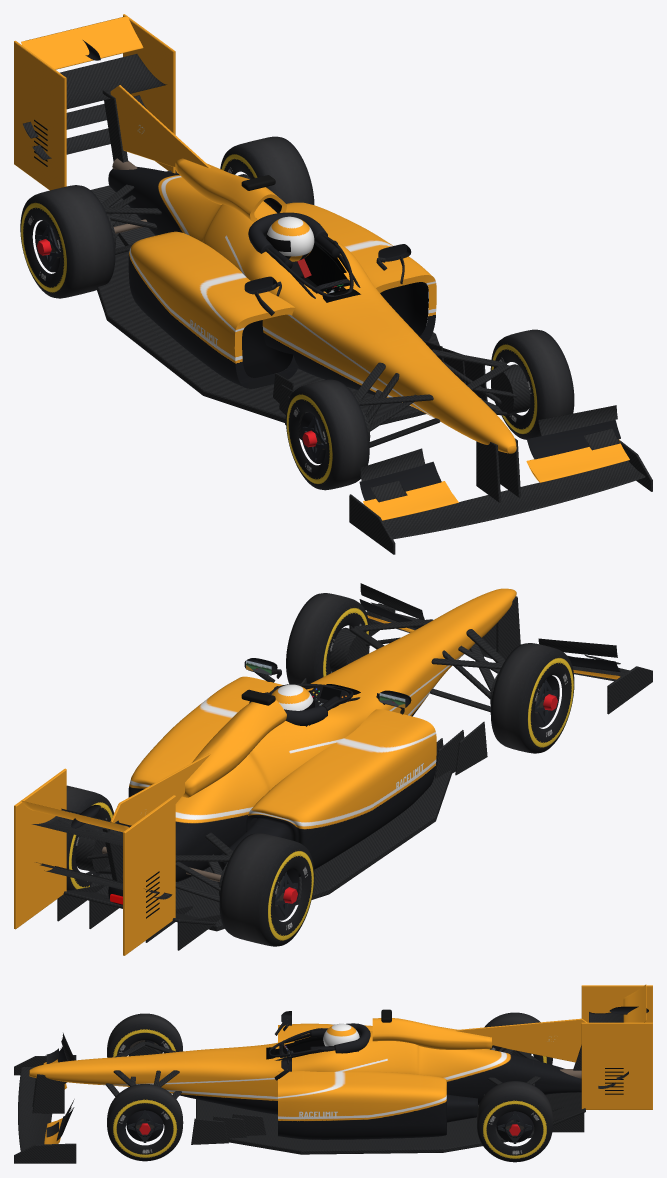
File: car_2009.glb
3 views of the same model, one above another, from view 1: azimuth 30°, elevation 25°; view 2: azimuth 150°, elevation 25°; view 3: azimuth 270°, elevation 25° (orthographic). The views are drawn at different scales.
Parts seen in each view (by area): view 1: RL_Car, RL_HideInCockpit_0, RL_WheelSpin_RR, RL_WheelSpin_FR, RL_WheelSpin_FL, RL_WheelSpin_RL, RL_HideInCockpit_4, RL_HideInCockpit_8; view 2: RL_Car, RL_HideInCockpit_0, RL_WheelSpin_RR, RL_WheelSpin_FR, RL_WheelSpin_FL, RL_WheelSpin_RL, RL_HideInCockpit_4; view 3: RL_Car, RL_HideInCockpit_0, RL_WheelSpin_RL, RL_WheelSpin_FL, RL_WheelSpin_FR, RL_WheelSpin_RR, RL_HideInCockpit_4, RL_HideInCockpit_8, RL_HideInCockpit_3.
Part boxes in pixels (<box>): RL_Car: <box>14,14,652,554</box>; RL_HideInCockpit_0: <box>108,166,516,453</box>; RL_WheelSpin_RR: <box>20,185,115,298</box>; RL_WheelSpin_FR: <box>286,379,370,490</box>; RL_WheelSpin_FL: <box>490,329,574,439</box>; RL_WheelSpin_RL: <box>220,136,314,204</box>; RL_HideInCockpit_4: <box>267,216,314,261</box>; RL_HideInCockpit_8: <box>304,244,348,285</box>; RL_Car: <box>14,583,652,955</box>; RL_HideInCockpit_0: <box>108,588,516,904</box>; RL_WheelSpin_RR: <box>219,833,314,946</box>; RL_WheelSpin_FR: <box>490,643,574,753</box>; RL_WheelSpin_FL: <box>286,593,369,684</box>; RL_WheelSpin_RL: <box>66,785,113,890</box>; RL_HideInCockpit_4: <box>271,684,313,710</box>; RL_Car: <box>14,984,652,1163</box>; RL_HideInCockpit_0: <box>29,1031,581,1114</box>; RL_WheelSpin_RL: <box>477,1081,552,1162</box>; RL_WheelSpin_FL: <box>107,1084,183,1161</box>; RL_WheelSpin_FR: <box>107,1013,182,1087</box>; RL_WheelSpin_RR: <box>484,1012,552,1064</box>; RL_HideInCockpit_4: <box>323,1023,359,1046</box>; RL_HideInCockpit_8: <box>275,1035,324,1057</box>; RL_HideInCockpit_3: <box>269,1028,334,1057</box>.
Bounding box in the file's own units: 1.83 × 1.14 × 5.53.
65 materials, 16 textured.
